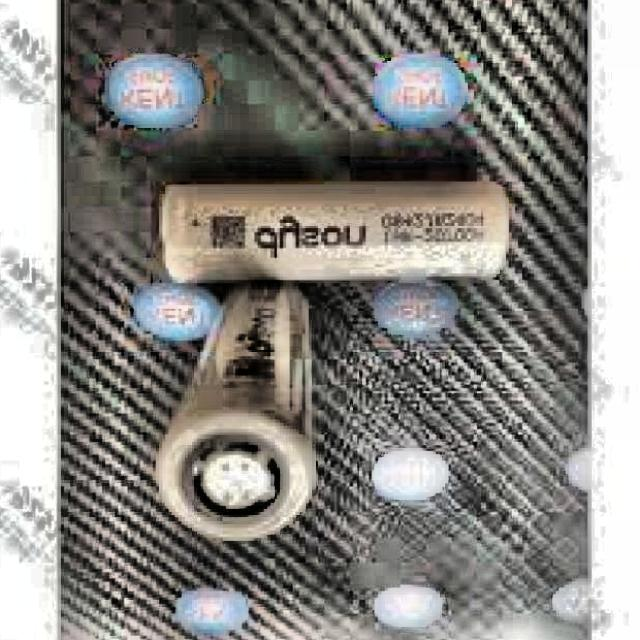Non-Valuable Waste - Batteries: (156, 282, 311, 541), (162, 183, 509, 283)
